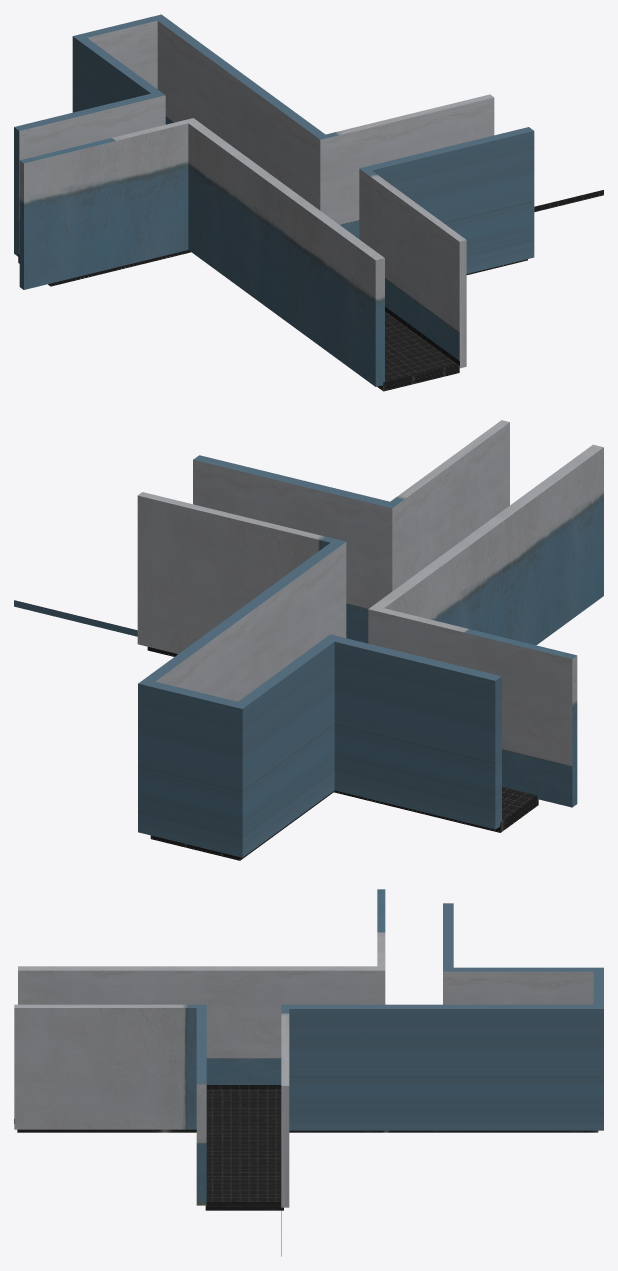
Rendered from Flashlight_Game.obj.
3 views of the same model, one above another, from view 1: azimuth 30°, elevation 25°; view 2: azimuth 150°, elevation 25°; view 3: azimuth 270°, elevation 25° (orthographic). The views are drawn at different scales.
Parts seen in each view (by area): view 1: Wall.003_Cube.019; view 2: Wall.003_Cube.019; view 3: Wall.003_Cube.019.
Part boxes in pixels (x1,y1,x2,y2): Wall.003_Cube.019: (14,14,603,391); Wall.003_Cube.019: (14,420,603,860); Wall.003_Cube.019: (14,889,603,1256).
Bounding box in the file's own units: 38.01 × 9.09 × 38.22.
